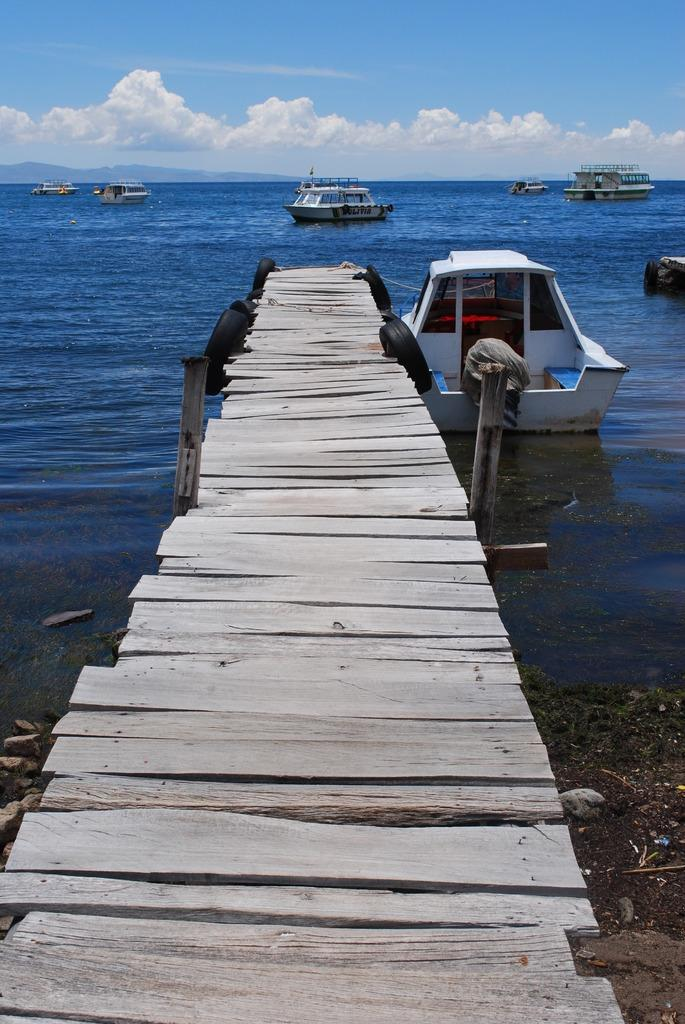PassengerShip: (280, 163, 393, 229), (570, 163, 656, 205)
